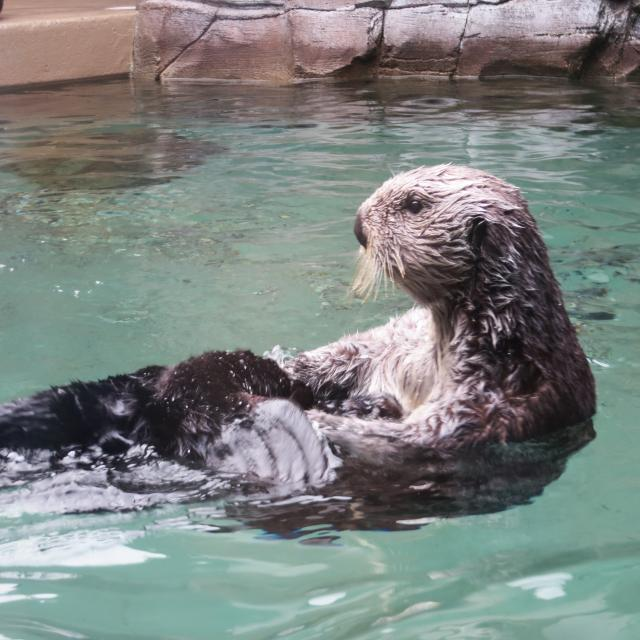otter: (356, 167, 574, 438)
